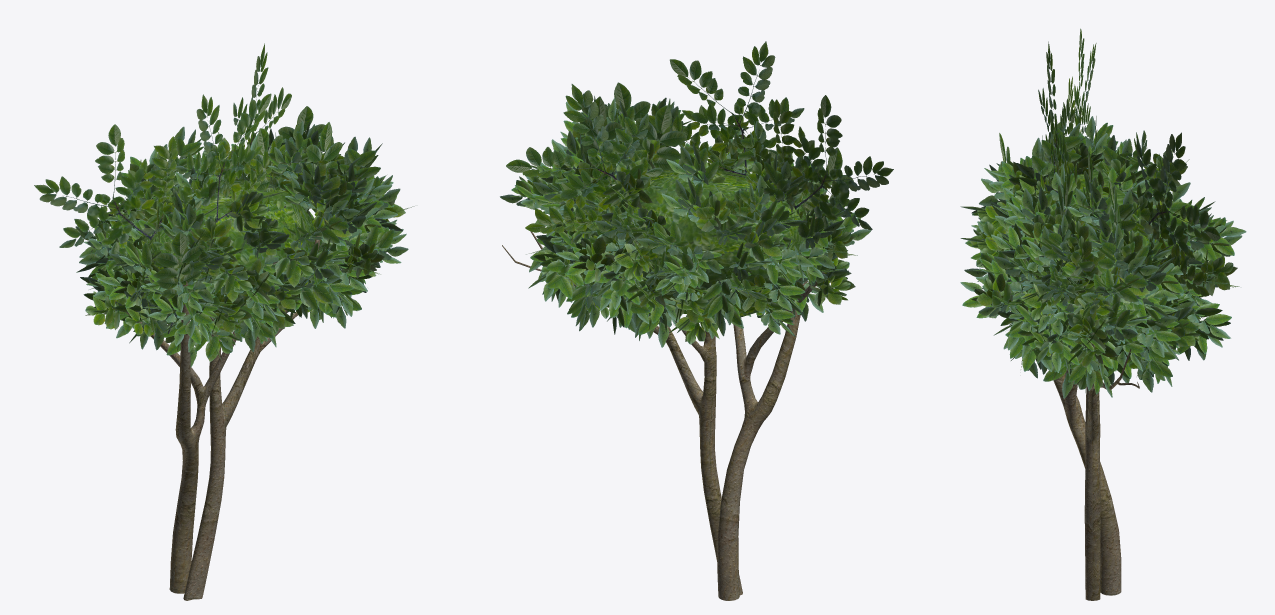
The model's file is tree3.FBX.
The picture shows the model from 3 angles, left to right: view 1: azimuth 30°, elevation 25°; view 2: azimuth 150°, elevation 25°; view 3: azimuth 270°, elevation 25°; orthographic projection. The views are drawn at different scales.
Parts seen in each view (by area): view 1: Object231, tree3UV, blob002; view 2: Object231, tree3UV, blob002; view 3: Object231, tree3UV, blob002.
Part boxes in pixels (x1,y1,x2,y2): Object231: (34,43,414,367); tree3UV: (126,228,320,600); blob002: (133,178,322,323); Object231: (500,41,893,347); tree3UV: (502,216,824,600); blob002: (579,166,809,317); Object231: (960,28,1246,398); tree3UV: (1053,333,1139,600); blob002: (1021,170,1167,362).
Size of the model in its own units: 803 by 1026 by 518.
